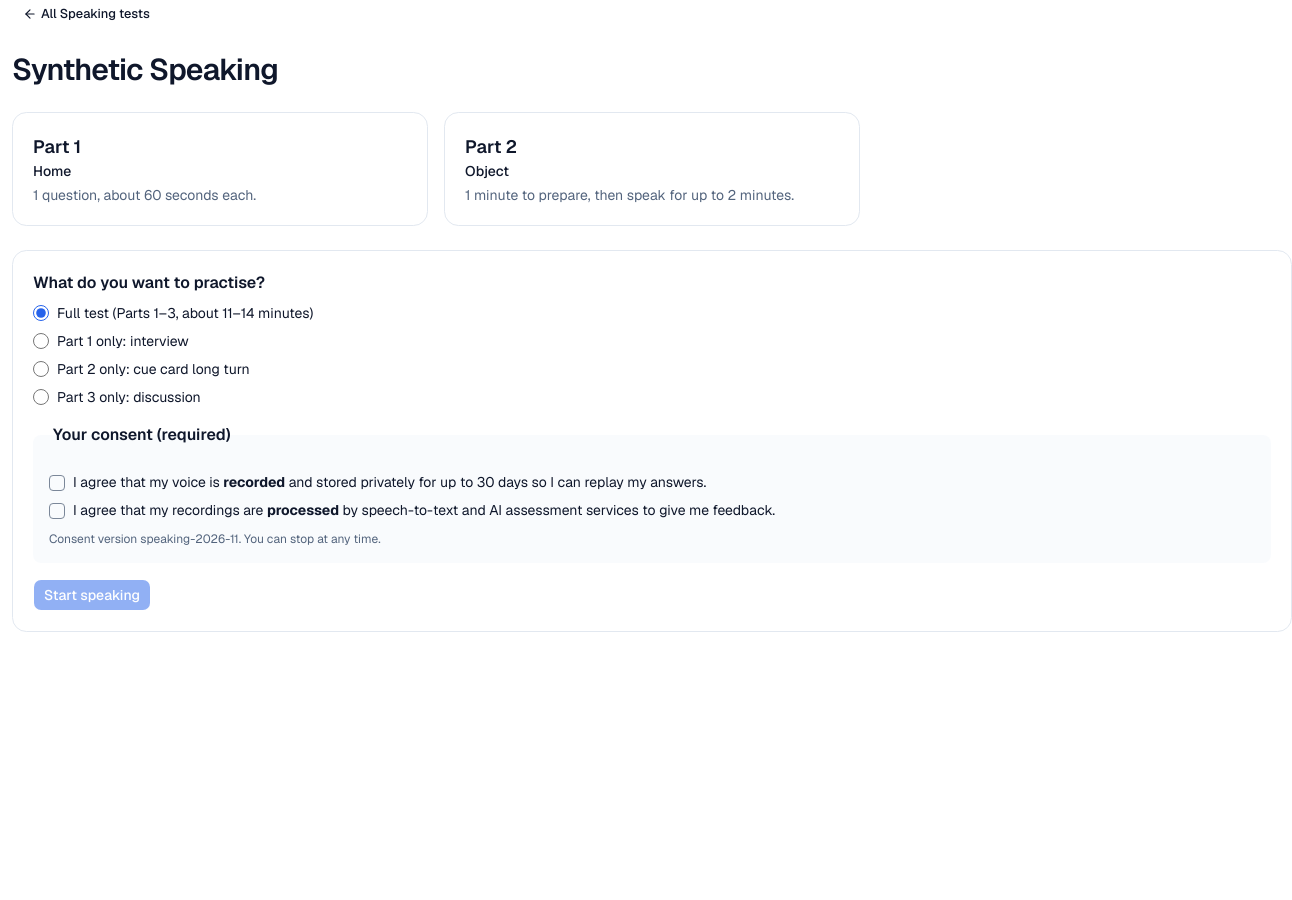
Scenario: Speaking consent › cannot start without both explicit consents
This screenshot has width=1292, height=900.
Check: the button "Start speaking" is disabled, box [33, 579, 151, 611]
Click the checkbox next to "I agree that my voice is" at (57, 483), box [49, 475, 65, 491]
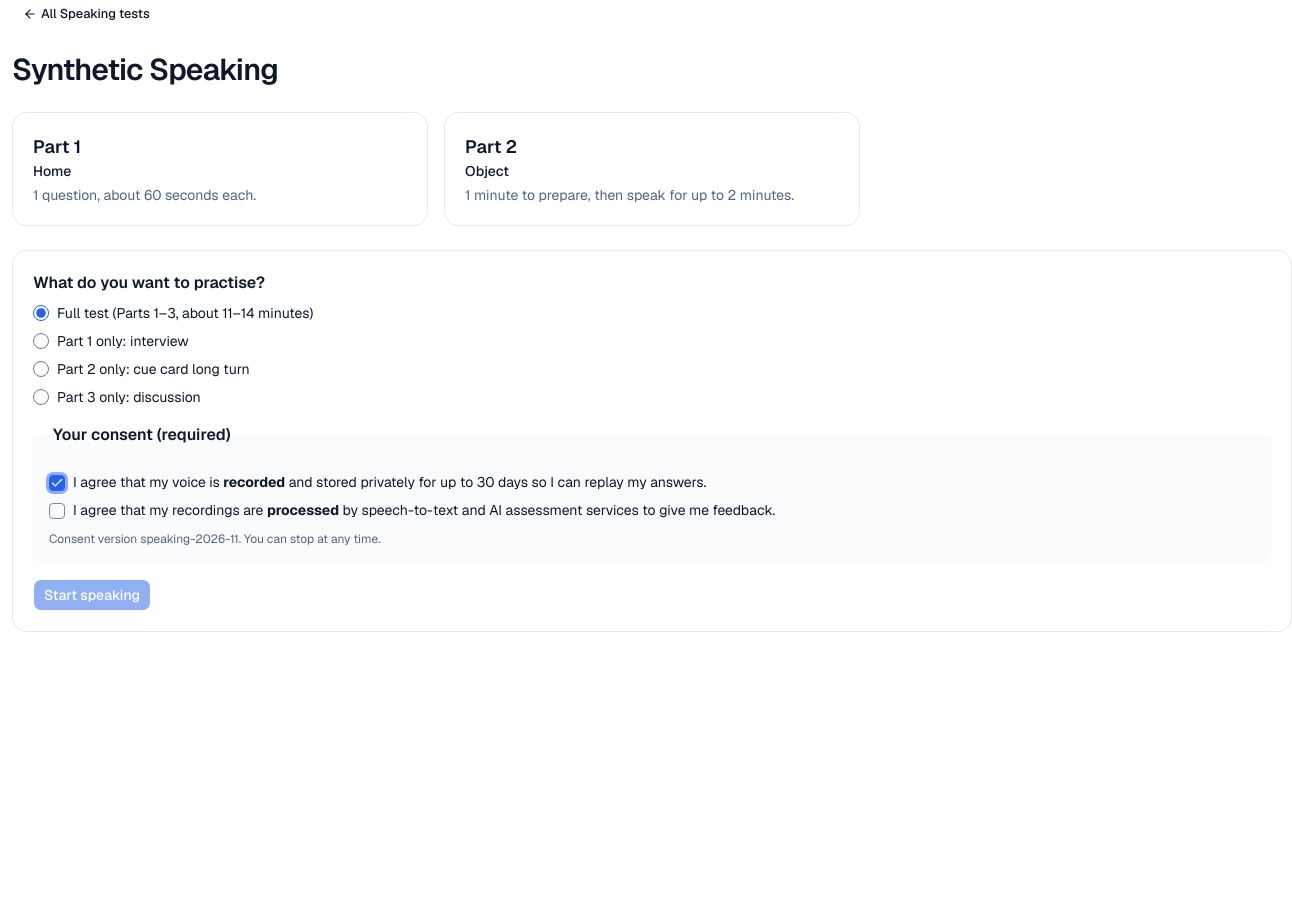
Check: the button "Start speaking" is disabled, box [33, 579, 151, 611]
Click the checkbox next to "I agree that my recordings are" at (57, 511), box [49, 503, 65, 519]
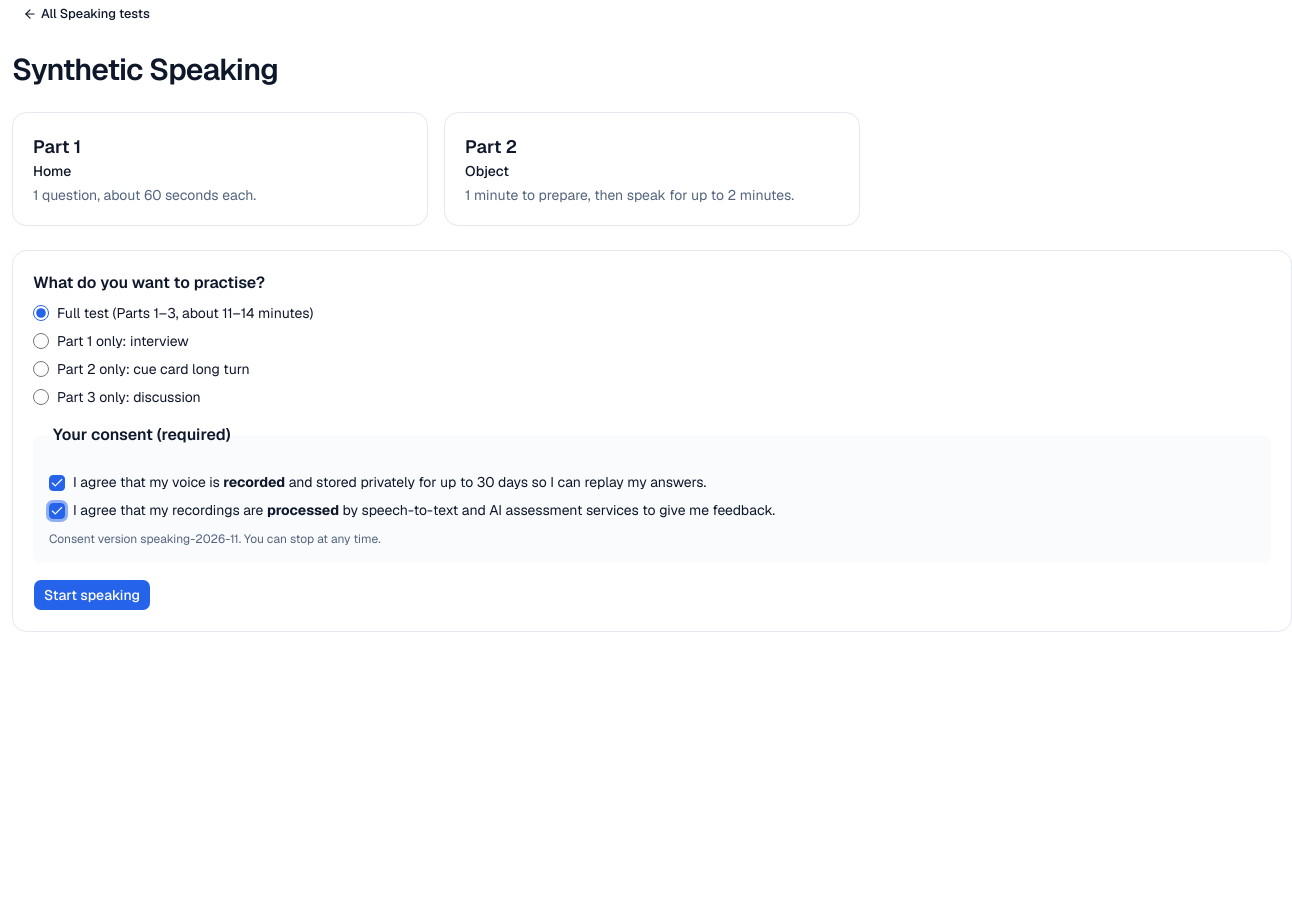
Check: the button "Start speaking" is enabled, box [33, 579, 151, 611]
